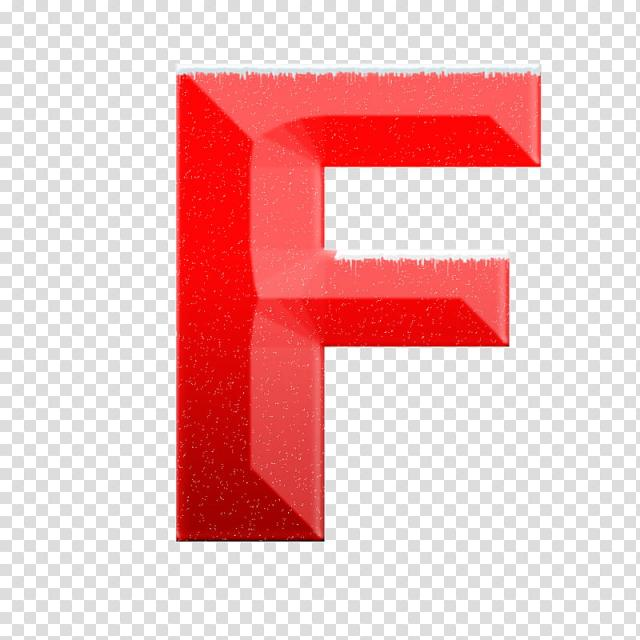F: (121, 39, 591, 590)
